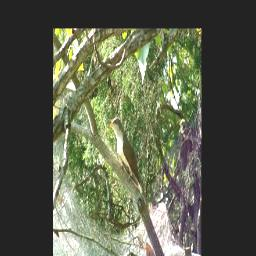Cuckoo: (109, 115, 150, 212)
